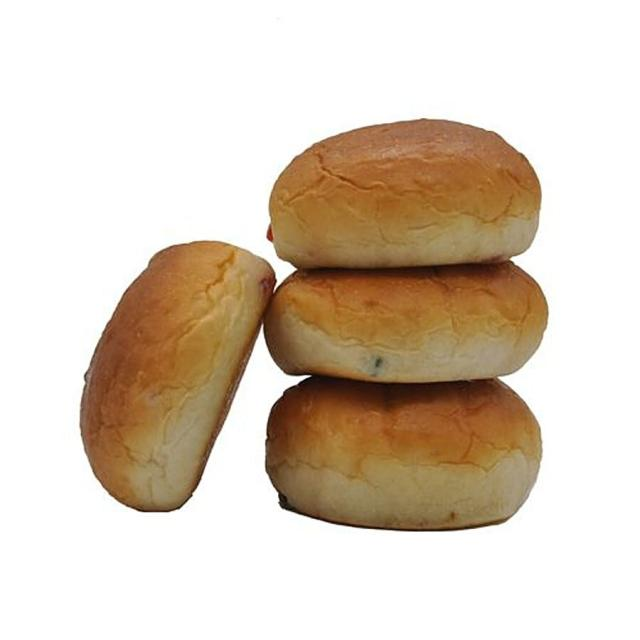Bun: (73, 234, 279, 516), (265, 107, 546, 277), (260, 391, 546, 535), (261, 265, 555, 389)
